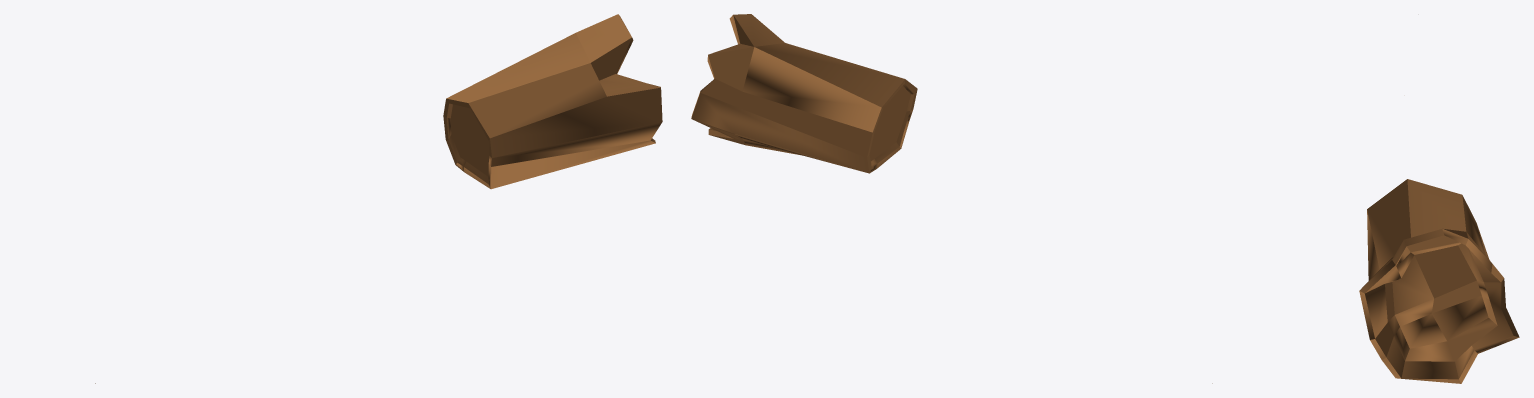
Rendered from Stamm kurz.fbx.
3 views of the same model, side by side, from view 1: azimuth 30°, elevation 25°; view 2: azimuth 150°, elevation 25°; view 3: azimuth 270°, elevation 25° (orthographic). The views are drawn at different scales.
Parts seen in each view (by area): view 1: Stamm; view 2: Stamm; view 3: Stamm.
Part boxes in pixels (bbox=[...]): Stamm: bbox=[95, 14, 662, 383]; Stamm: bbox=[691, 14, 1212, 383]; Stamm: bbox=[1359, 179, 1519, 383].
Size of the model in its own units: 1467 by 560 by 275.
